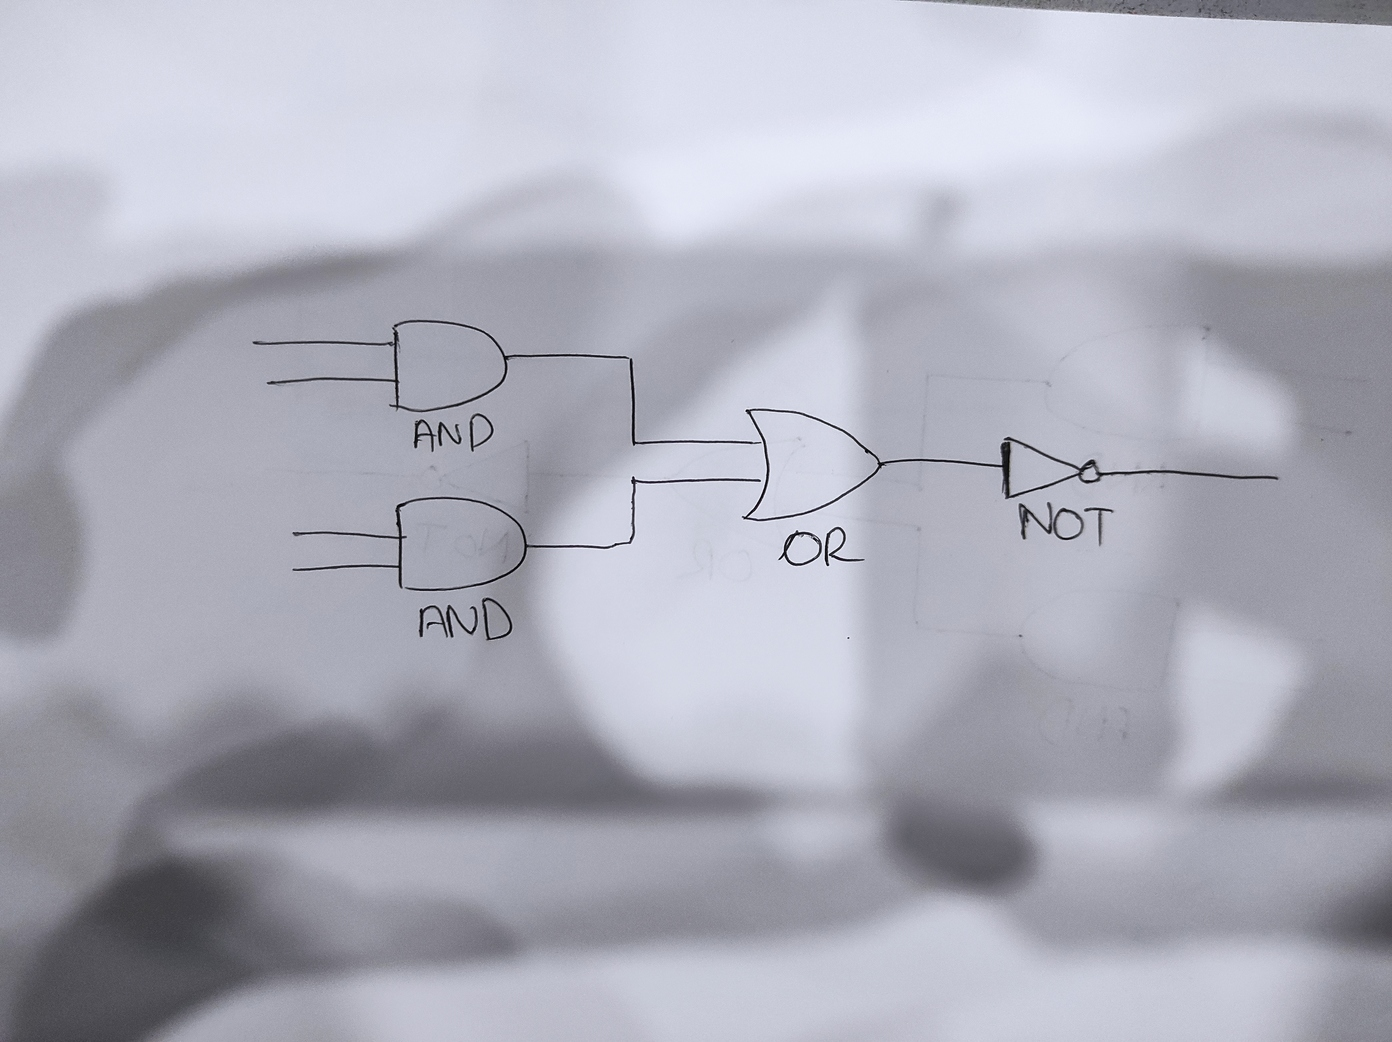and: (392, 493, 531, 594), (386, 312, 517, 414)
junction: (620, 530, 642, 553), (619, 348, 641, 369), (624, 435, 642, 453), (627, 471, 642, 491)
not: (998, 433, 1103, 502)
or: (738, 405, 888, 524)
terminal: (1265, 470, 1288, 486), (262, 377, 280, 392), (288, 526, 304, 542), (287, 563, 302, 577), (248, 336, 262, 350)
text: (410, 597, 517, 646), (1013, 500, 1117, 548), (775, 525, 868, 569), (408, 414, 502, 454)
